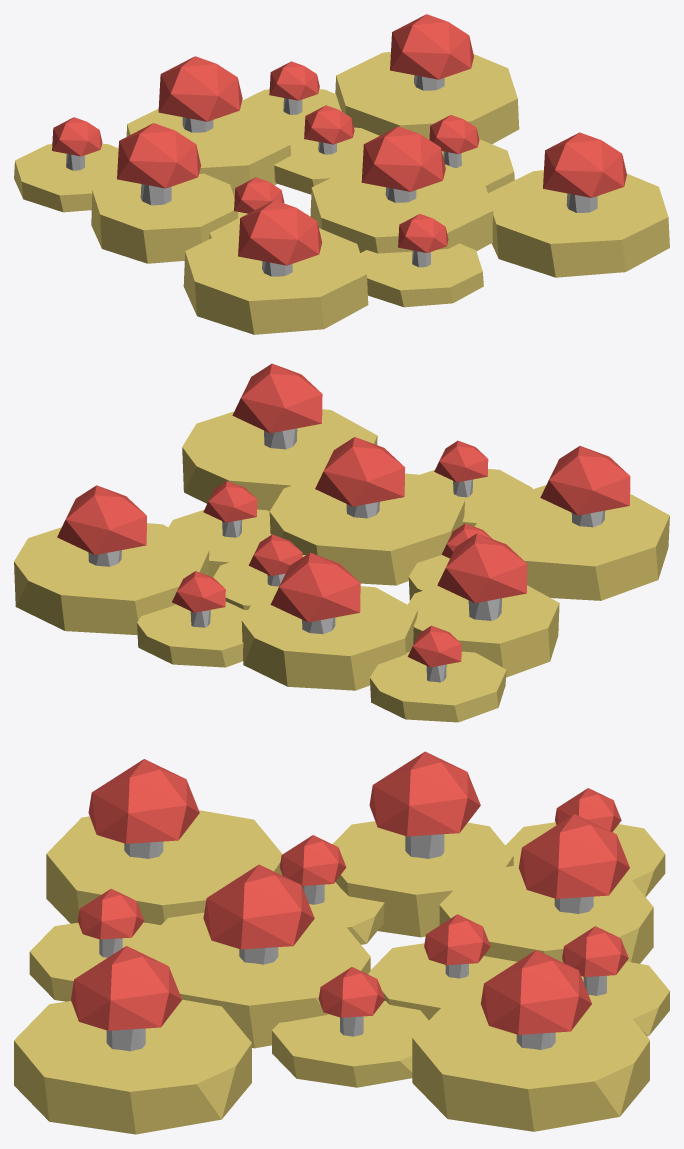
File: StickyNectarTrapModel.fbx
The picture shows the model from 3 angles, top to bottom: view 1: azimuth 30°, elevation 25°; view 2: azimuth 150°, elevation 25°; view 3: azimuth 270°, elevation 25°; orthographic projection. The views are drawn at different scales.
Parts seen in each view (by area): view 1: Sticky, Shroom, Stem; view 2: Sticky, Shroom, Stem; view 3: Sticky, Shroom, Stem.
Part boxes in pixels (x1,y1,x2,y2): Sticky: [14, 52, 669, 334]; Shroom: [52, 14, 626, 265]; Stem: [66, 75, 597, 276]; Sticky: [14, 409, 669, 722]; Shroom: [57, 363, 630, 667]; Stem: [88, 428, 605, 682]; Sticky: [14, 810, 669, 1134]; Shroom: [71, 751, 629, 1034]; Stem: [99, 834, 606, 1051].
Bounding box in the file's own units: 293 × 62.63 × 279.
